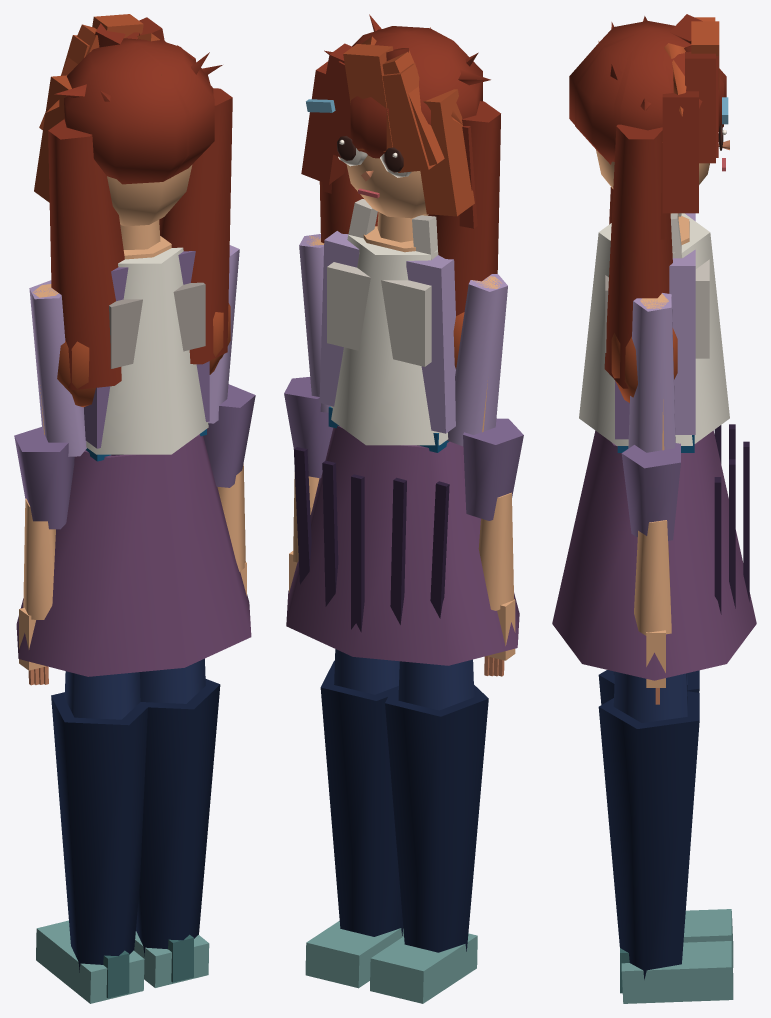
Rendered from miyu-retro-ds.glb.
3 views of the same model, side by side, from view 1: azimuth 30°, elevation 25°; view 2: azimuth 150°, elevation 25°; view 3: azimuth 270°, elevation 25° (orthographic).
Visible parts, largest first — view 1: Skirt_PleatedBody, Denim_Calf_L, Denim_Calf_R, Hair3_Cap, Hair3_Long_-1, Torso_Camisole, Hair3_Long_1, UpperArm_L, Cardigan_Cuff_L, Underwear_SportsBra_Back, Shoe_L, Cardigan_Cuff_R (+18 smaller); view 2: Skirt_PleatedBody, Denim_Calf_L, Denim_Calf_R, Torso_Camisole, Underwear_SportsBra_Front, Hair3_Long_-1, UpperArm_L, Hair3_Cap, Cardigan_Left, Shoe_L, Cardigan_Cuff_L, Hair_Chunk_1 (+28 smaller); view 3: Skirt_PleatedBody, Denim_Calf_R, Hair3_Long_1, Torso_Camisole, Hair3_Cap, UpperArm_R, Shoe_R, Hair_Chunk_5, Cardigan_Cuff_R, Cardigan_Right, Forearm_R, Denim_Thigh_R (+14 smaller).
Part boxes in pixels (left/top/right/bottom): Skirt_PleatedBody: left=16, top=434, right=251, bottom=676; Denim_Calf_L: left=51, top=692, right=152, bottom=972; Denim_Calf_R: left=136, top=679, right=220, bottom=956; Hair3_Cap: left=64, top=39, right=214, bottom=184; Hair3_Long_-1: left=48, top=119, right=124, bottom=390; Torso_Camisole: left=86, top=247, right=208, bottom=454; Hair3_Long_1: left=159, top=88, right=232, bottom=364; UpperArm_L: left=29, top=280, right=86, bottom=456; Cardigan_Cuff_L: left=14, top=427, right=74, bottom=529; Underwear_SportsBra_Back: left=109, top=282, right=205, bottom=368; Shoe_L: left=36, top=920, right=144, bottom=1003; Cardigan_Cuff_R: left=203, top=384, right=255, bottom=487; Skirt_PleatedBody: left=286, top=425, right=519, bottom=665; Denim_Calf_L: left=385, top=685, right=488, bottom=952; Denim_Calf_R: left=320, top=660, right=403, bottom=936; Torso_Camisole: left=330, top=234, right=448, bottom=445; Underwear_SportsBra_Front: left=327, top=262, right=431, bottom=366; Hair3_Long_-1: left=428, top=101, right=500, bottom=315; UpperArm_L: left=447, top=274, right=507, bottom=446; Hair3_Cap: left=352, top=26, right=482, bottom=158; Cardigan_Left: left=406, top=255, right=455, bottom=433; Shoe_L: left=370, top=933, right=477, bottom=1003; Cardigan_Cuff_L: left=463, top=418, right=523, bottom=520; Hair_Chunk_1: left=420, top=89, right=474, bottom=216; Skirt_PleatedBody: left=552, top=430, right=756, bottom=680; Denim_Calf_R: left=598, top=691, right=699, bottom=979; Hair3_Long_1: left=604, top=124, right=672, bottom=388; Torso_Camisole: left=579, top=213, right=729, bottom=445; Hair3_Cap: left=569, top=21, right=726, bottom=164; UpperArm_R: left=628, top=293, right=675, bottom=452; Shoe_R: left=621, top=941, right=733, bottom=1003; Hair_Chunk_5: left=662, top=91, right=698, bottom=213; Cardigan_Cuff_R: left=621, top=443, right=680, bottom=540; Cardigan_Right: left=669, top=249, right=695, bottom=434; Forearm_R: left=634, top=520, right=671, bottom=635; Denim_Thigh_R: left=613, top=671, right=687, bottom=722.
Size of the model in its own units: 1.66 by 6.38 by 1.25.
